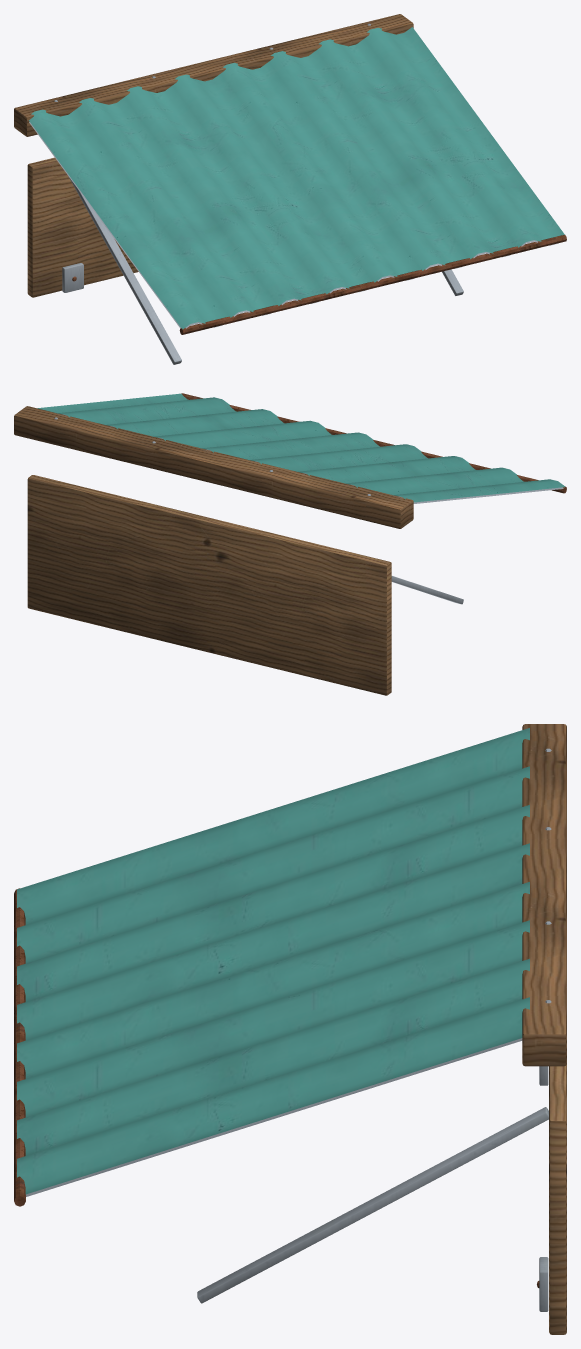
Rendered from shack_awning.glb.
The picture shows the model from 3 angles, top to bottom: view 1: azimuth 30°, elevation 25°; view 2: azimuth 150°, elevation 25°; view 3: azimuth 270°, elevation 25°; orthographic projection. The views are drawn at different scales.
Visible parts, largest first — view 1: ShackAwningBody; view 2: ShackAwningBody; view 3: ShackAwningBody.
Boxes of the visible parts, <box> form: ShackAwningBody: <box>14,14,566,364</box>; ShackAwningBody: <box>14,393,566,695</box>; ShackAwningBody: <box>14,724,566,1334</box>.
Bounding box in the file's own units: 0.99 × 0.4707 × 0.744.
Materials: 5 (5 with a texture image).
